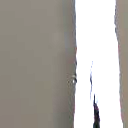crackTip: (82, 58, 111, 128)
